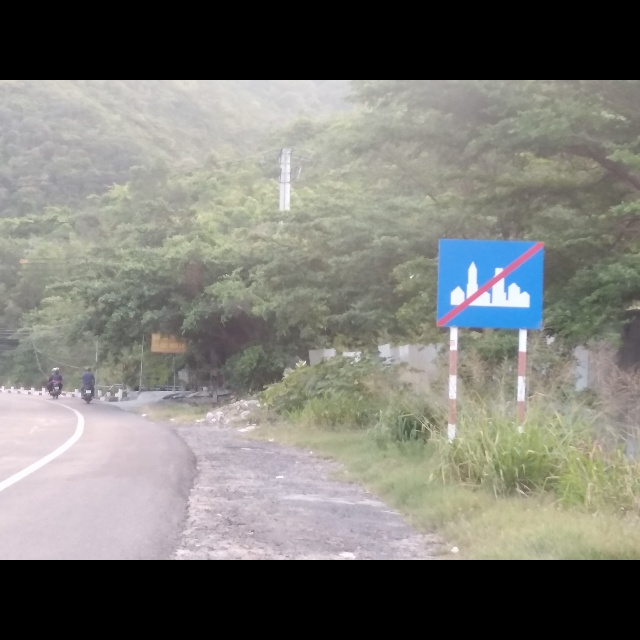Hết khu đông dân cư: (436, 236, 546, 331)
